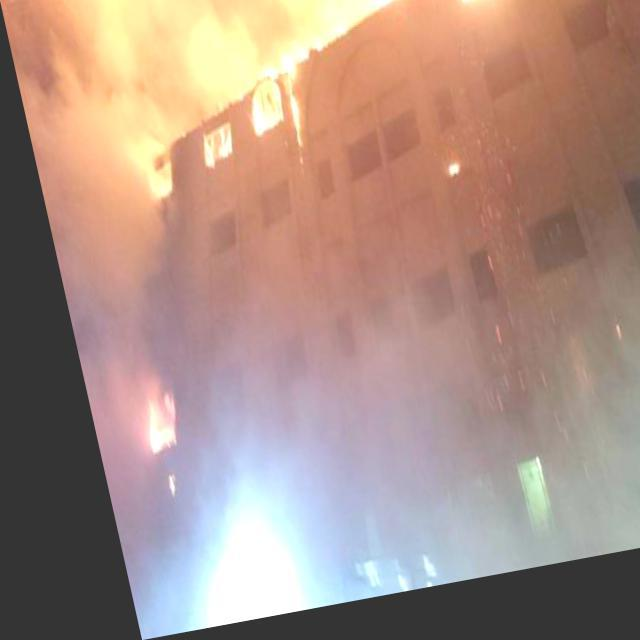Fire: (103, 0, 604, 203), (109, 382, 168, 462)
